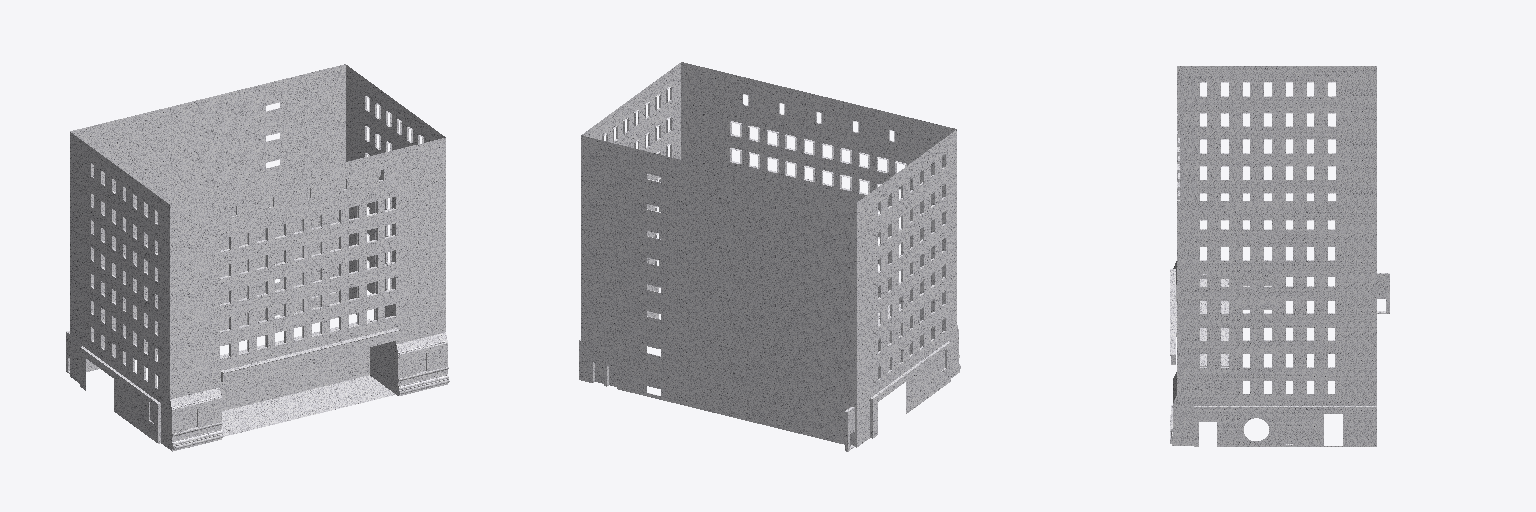
3 views of the same model, side by side, from view 1: azimuth 30°, elevation 25°; view 2: azimuth 150°, elevation 25°; view 3: azimuth 270°, elevation 25° (orthographic).
Visible parts, largest first — view 1: NBLD_137; view 2: NBLD_137; view 3: NBLD_137.
Part boxes in pixels (bbox=[...]): NBLD_137: bbox=[66, 64, 449, 451]; NBLD_137: bbox=[579, 62, 960, 451]; NBLD_137: bbox=[1170, 66, 1389, 446].
Bounding box in the file's own units: 41.7 × 34.8 × 28.42.
1 materials, 1 textured.